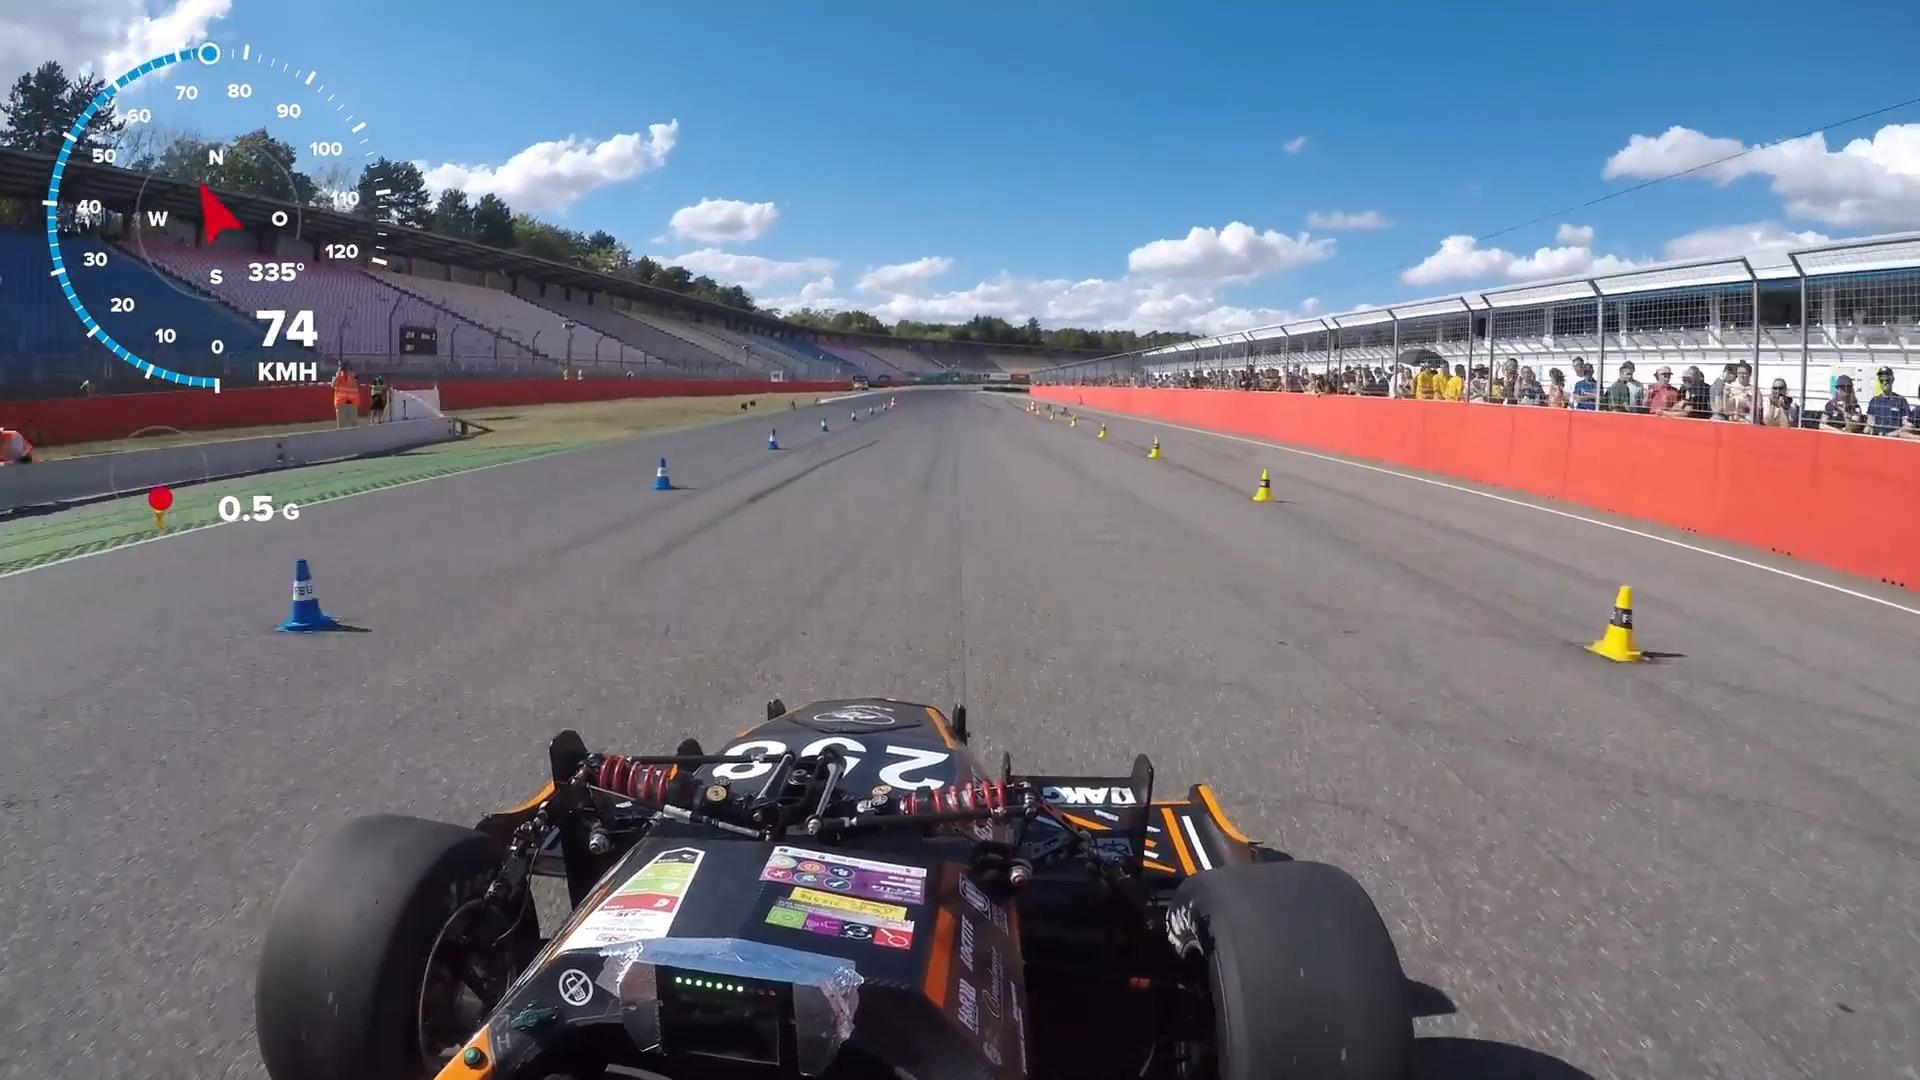blue_cone: (287, 558, 331, 636), (650, 455, 674, 491), (762, 427, 779, 451), (819, 415, 827, 435), (849, 409, 857, 425), (869, 406, 874, 417), (881, 402, 886, 413)
yellow_cone: (1577, 571, 1644, 665), (1250, 464, 1275, 506), (1147, 436, 1162, 460), (1098, 422, 1109, 442), (1069, 413, 1079, 429), (1048, 410, 1056, 422)
